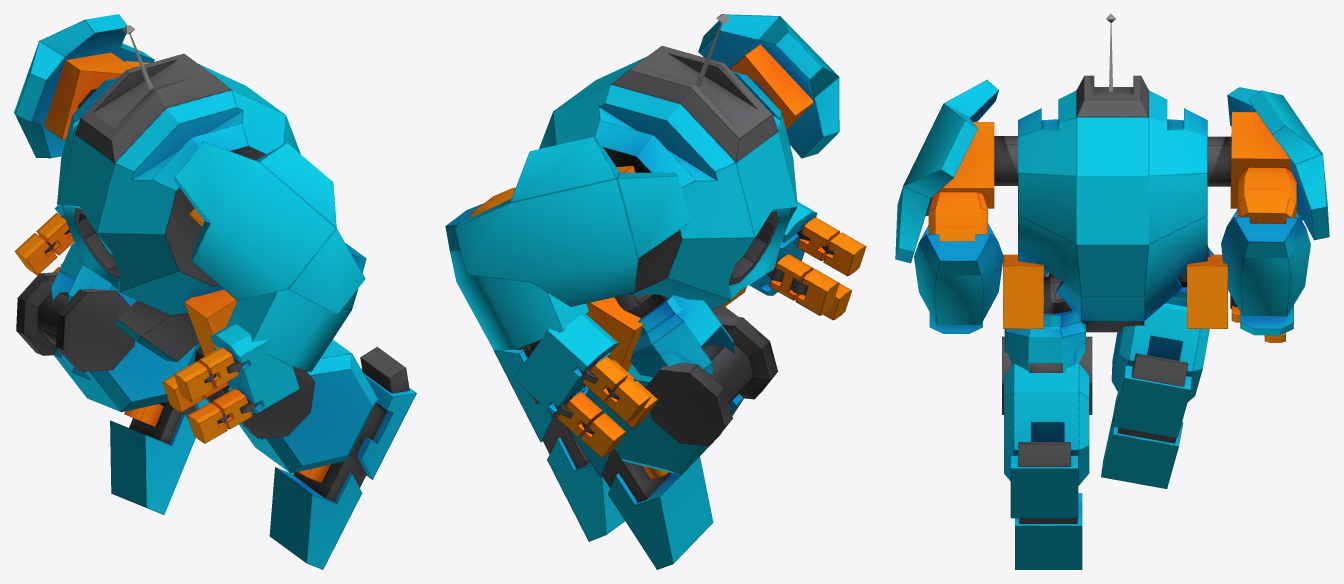
The model's file is Walk28.obj.
The picture shows the model from 3 angles, left to right: view 1: azimuth 30°, elevation 25°; view 2: azimuth 150°, elevation 25°; view 3: azimuth 270°, elevation 25°; orthographic projection. The views are drawn at different scales.
Visible parts, largest first — view 1: Plane001, Object006, Object010, Object014, Object013, Object002, Object008, Object011, Object007, Object004, Object009; view 2: Plane001, Object002, Object010, Object004, Object006, Object011, Object008, Object003, Object014, Object009; view 3: Plane001, Object006, Object002, Object011, Object014, Object013, Object003, Object007, Object010, Object012, Object004, Object001 (+1 smaller).
Part boxes in pixels (<box>): Plane001: <box>57,53,300,361</box>; Object006: <box>174,141,365,314</box>; Object010: <box>16,272,200,412</box>; Object014: <box>269,347,416,569</box>; Object013: <box>194,339,377,473</box>; Object002: <box>14,14,154,158</box>; Object008: <box>162,324,299,443</box>; Object011: <box>110,345,208,514</box>; Object007: <box>226,243,366,372</box>; Object004: <box>14,205,73,275</box>; Object009: <box>51,243,136,305</box>; Plane001: <box>539,45,797,371</box>; Object002: <box>454,137,689,306</box>; Object010: <box>586,314,777,475</box>; Object004: <box>513,314,657,457</box>; Object006: <box>698,14,839,158</box>; Object011: <box>558,386,713,569</box>; Object008: <box>749,201,866,320</box>; Object003: <box>445,203,588,350</box>; Object014: <box>493,347,624,541</box>; Object009: <box>614,294,734,377</box>; Plane001: <box>1003,75,1227,332</box>; Object006: <box>895,79,998,263</box>; Object002: <box>1227,87,1329,240</box>; Object011: <box>1101,353,1191,488</box>; Object014: <box>1010,442,1082,569</box>; Object013: <box>1002,336,1092,485</box>; Object003: <box>1221,209,1310,316</box>; Object007: <box>914,223,1003,324</box>; Object010: <box>1111,303,1209,401</box>; Object012: <box>1004,273,1085,372</box>; Object004: <box>1230,294,1293,342</box>; Object001: <box>1207,136,1231,186</box>.
Size of the model in its own units: 128 by 227 by 182.
